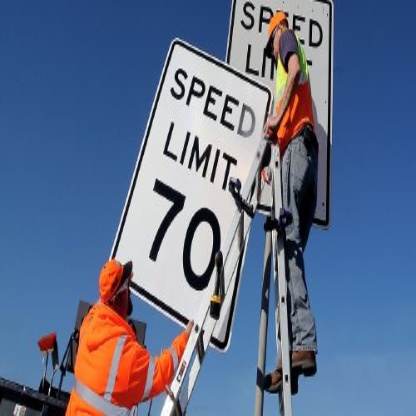limit1: (101, 37, 280, 352), (232, 1, 338, 236)
